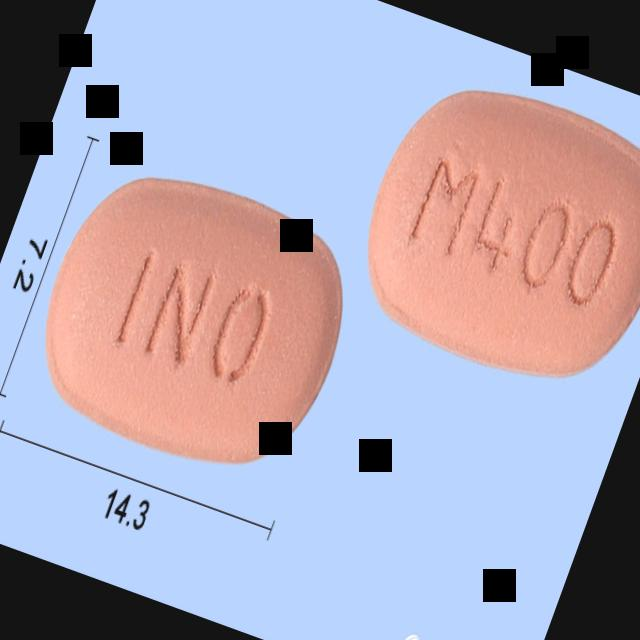Moveloxin: (14, 146, 375, 494), (336, 58, 640, 405)
